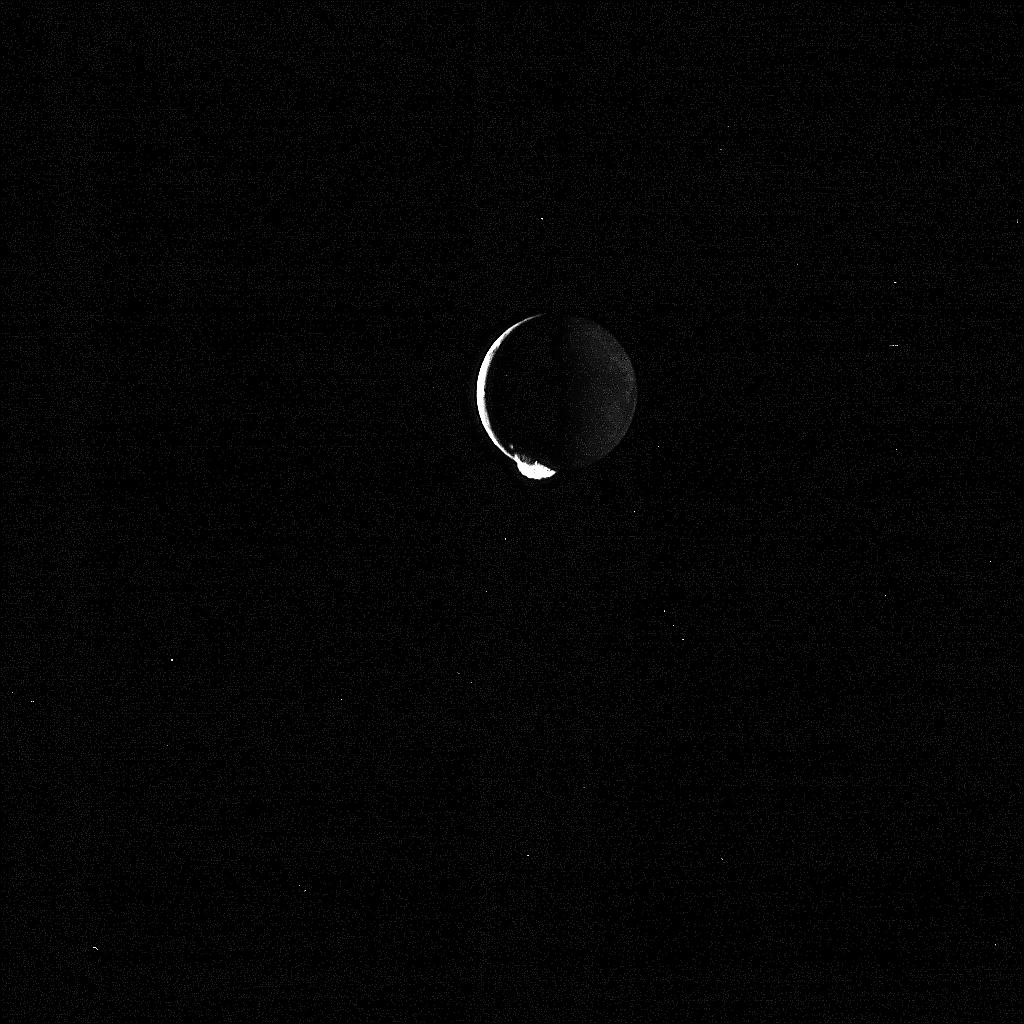plumes: (509, 447, 557, 484)
